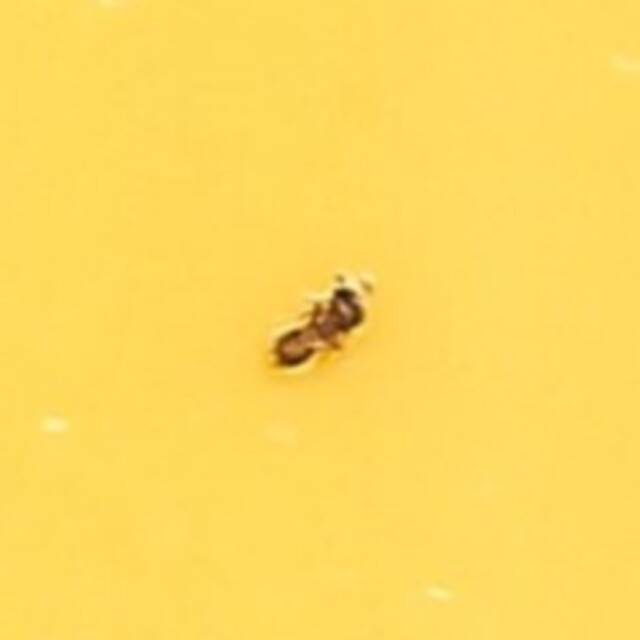Hymenoptera: (269, 268, 371, 372)
